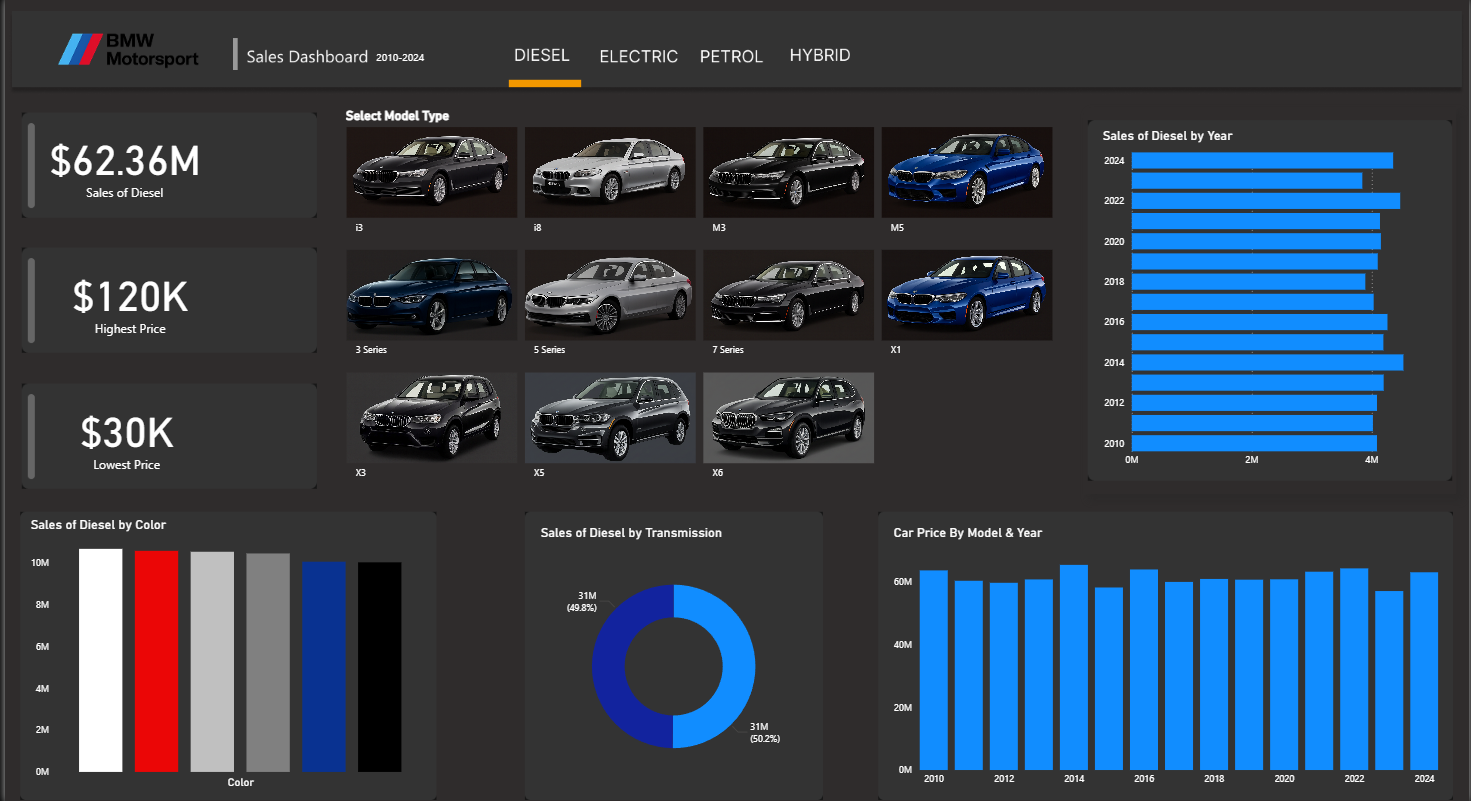

What the dashboard file says about the page in this screenshot:
{"tool":"powerbi","page":{"name":"Diesel","canvas":[1920,1056],"ordinal":0},"visuals":[{"type":"image","box":[16.5,143.7,396.6,149.6],"z":0},{"type":"image","box":[16.5,321.7,396.6,149.6],"z":1000},{"type":"image","box":[16.5,499.8,396.6,149.6],"z":2000},{"type":"image","box":[1415.7,143.7,487.9,505.8],"z":3000},{"type":"image","box":[0,668.9,585.1,387.6],"z":4000},{"type":"image","box":[631.5,668.9,493.8,387.6],"z":5000},{"type":"image","box":[1125.4,668.9,794.6,387.6],"z":6000},{"type":"image","box":[0,0,1920,143.8],"z":7000},{"type":"actionButton","box":[776.6,52.4,112.9,40.3],"z":8000},{"type":"actionButton","box":[904.2,52.4,95.4,40.3],"z":9000},{"type":"actionButton","box":[1019.8,52.4,95.4,40.3],"z":10000},{"type":"card","fields":{"Values":["BMW sales data 2010-2024.Sales of Diesel"]},"box":[48.6,156.3,227.2,122.1],"z":11000},{"type":"card","fields":{"Values":["Measure.Highest Price"]},"box":[48.6,334.9,236.4,122.1],"z":12000},{"type":"card","fields":{"Values":["Measure.Lowest Price"]},"box":[48.6,513.6,227.2,122.1],"z":13000},{"type":"barChart","fields":{"Category":["BMW sales data 2010-2024.Year.Variation.Date Hierarchy.Year"],"Y":["Diesel Measure.Sales of Diesel"]},"box":[1435.6,170.7,450.5,453.1],"z":14000},{"type":"columnChart","fields":{"Category":["BMW sales data 2010-2024.Color"],"Y":["Diesel Measure.Sales of Diesel"]},"box":[28.6,681.4,527.1,361.4],"z":15000},{"type":"donutChart","fields":{"Category":["BMW sales data 2010-2024.Transmission"],"Y":["Diesel Measure.Sales of Diesel"]},"box":[697.4,690.9,358.6,352],"z":16000},{"type":"advancedSlicerVisual","title":"Select Model Type","fields":{"Values":["Car Images.Links"],"Label":["Min(Car Images.Model)"]},"box":[441.4,144.3,938.6,505.7],"z":17000},{"type":"lineStackedColumnComboChart","title":"Car Price By Model & Year","fields":{"Y":["Sum(BMW sales data 2010-2024.Price_USD)"],"Category":["BMW sales data 2010-2024.Year.Variation.Date Hierarchy.Year"]},"box":[1161.4,691.4,724.3,351.4],"z":18000},{"type":"textbox","box":[481.2,63.7,74.1,28.6],"z":19000}]}

Visuals, with their boxes in screenshot pixels (x1, y1, x2, y2), scaled from the page's 1920x1056 canvas onto the 1471x801 screenshot:
image: [13,109,316,222]
image: [13,244,316,357]
image: [13,379,316,493]
image: [1085,109,1458,493]
image: [0,507,448,800]
image: [484,507,862,800]
image: [862,507,1470,800]
image: [0,0,1470,109]
actionButton: [595,40,681,70]
actionButton: [693,40,766,70]
actionButton: [781,40,854,70]
card - BMW sales data 2010-2024.Sales of Diesel: [37,119,211,211]
card - Measure.Highest Price: [37,254,218,347]
card - Measure.Lowest Price: [37,390,211,482]
barChart - BMW sales data 2010-2024.Year.Variation.Date Hierarchy.Year x Diesel Measure.Sales of Diesel: [1100,129,1445,473]
columnChart - BMW sales data 2010-2024.Color x Diesel Measure.Sales of Diesel: [22,517,426,791]
donutChart - BMW sales data 2010-2024.Transmission x Diesel Measure.Sales of Diesel: [534,524,809,791]
"Select Model Type" advancedSlicerVisual: [338,109,1057,493]
"Car Price By Model & Year" lineStackedColumnComboChart: [890,524,1445,791]
textbox: [369,48,425,70]
